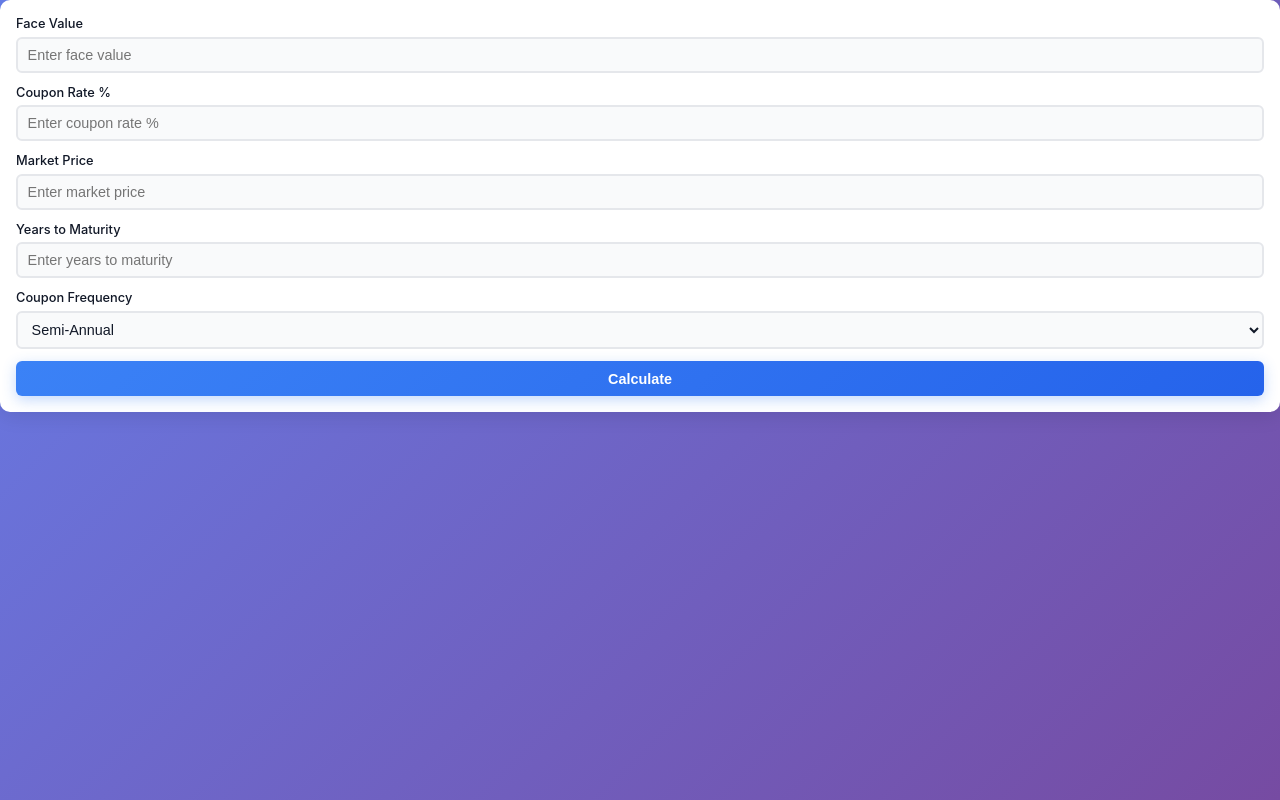
BondForm Component › Input Handling › should clear error when user starts typing in field
Click the button "Calculate" at (640, 379), box [16, 361, 1264, 396]
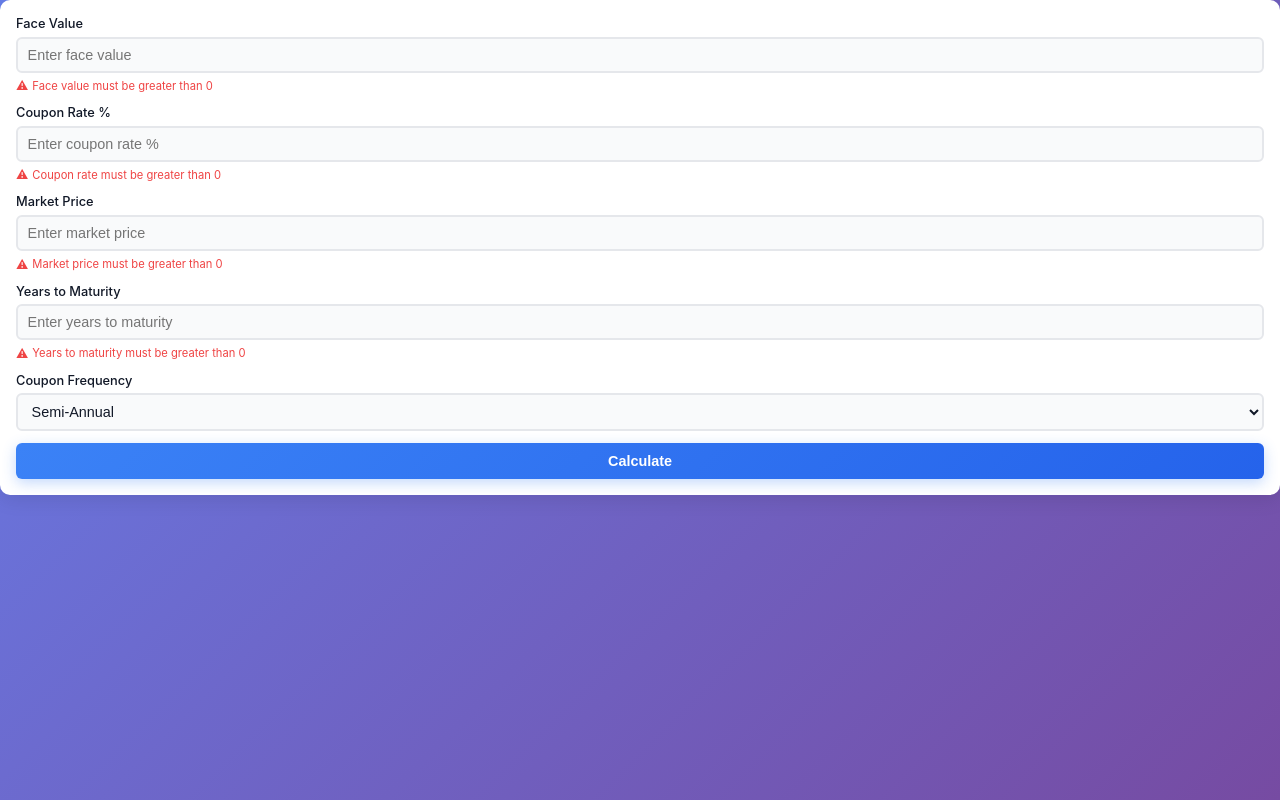
Clear the number field labelled "Face Value" at (640, 55), box [16, 37, 1264, 73]
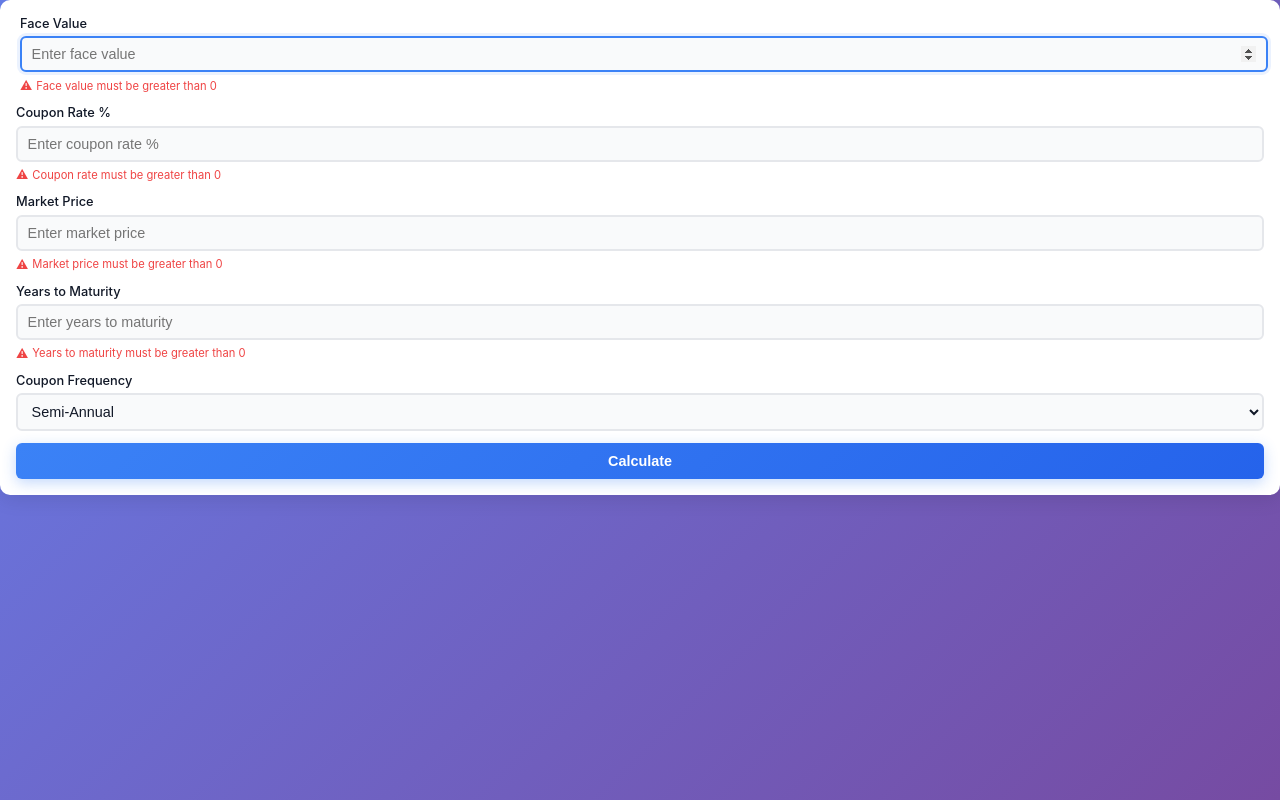
Type "1000" into the number field labelled "Face Value" at (644, 54), box [20, 36, 1268, 72]
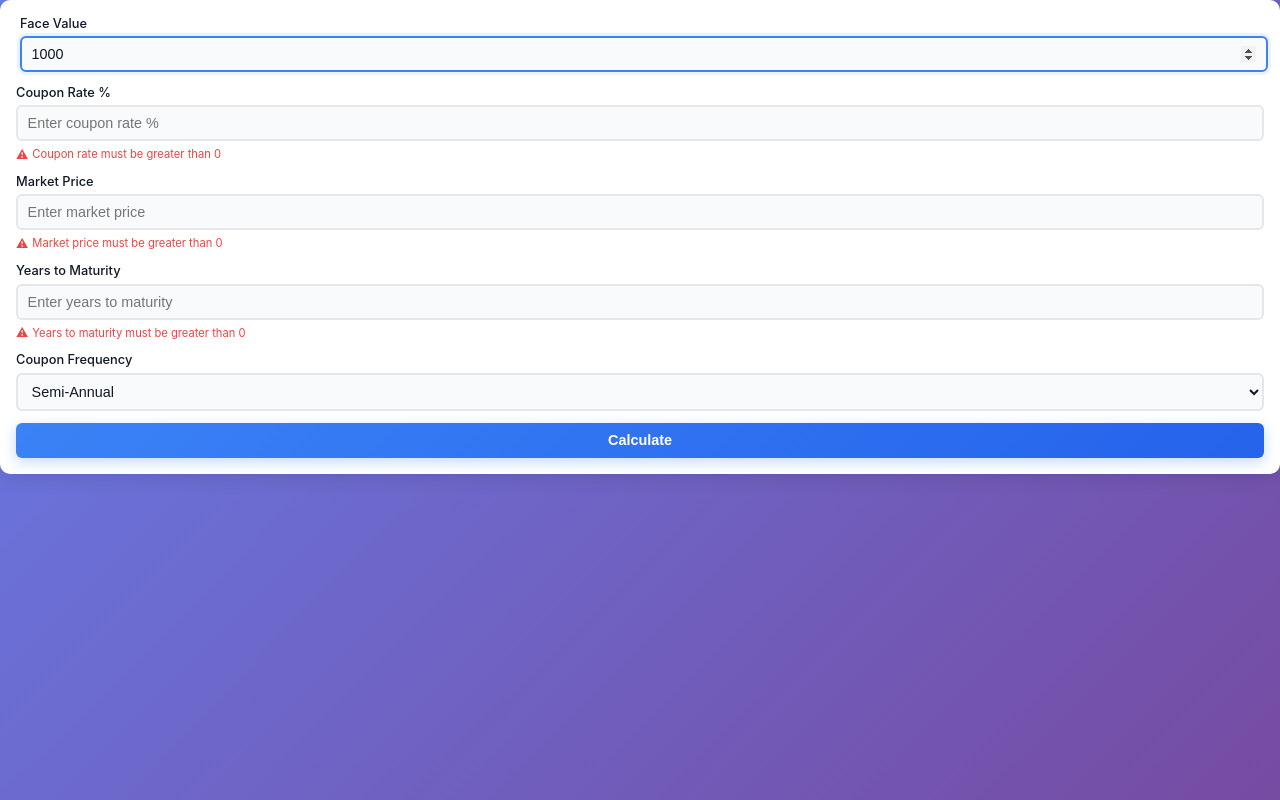
Check: the text "Face value must be greater than 0" is gone
